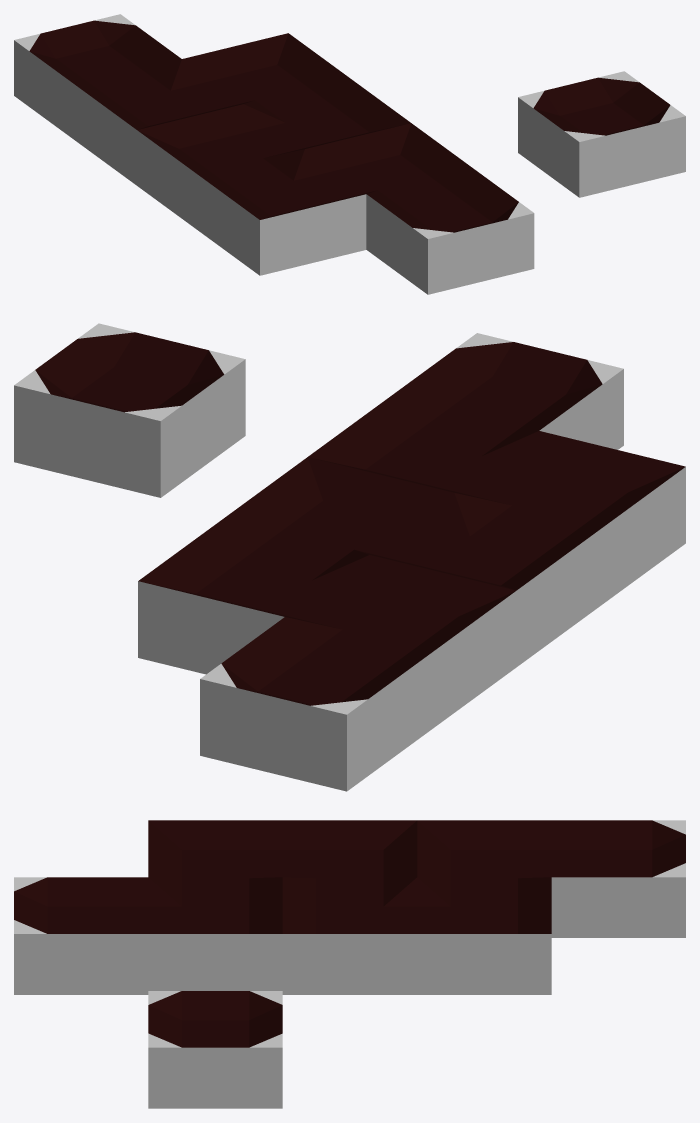
File: 28s_path.obj
3 renders of one model, top to bottom at view 1: azimuth 30°, elevation 25°; view 2: azimuth 150°, elevation 25°; view 3: azimuth 270°, elevation 25°, orthographic. The views are drawn at different scales.
Parts seen in each view (by area): view 1: hole.3.1_Cube.206, ending.1.0_ending.410, corner.0.1_corner.1017, ending.0.4_ending.409, corner.0.2_corner.1018, corner.1.1_corner.1020, corner.1.3_corner.1022, corner.0.3_corner.1019, corner.1.2_corner.1021; view 2: hole.3.1_Cube.206, ending.0.4_ending.409, corner.0.3_corner.1019, corner.0.1_corner.1017, corner.1.3_corner.1022, ending.1.0_ending.410, corner.1.2_corner.1021, corner.0.2_corner.1018, corner.1.1_corner.1020; view 3: ending.0.4_ending.409, ending.1.0_ending.410, hole.3.1_Cube.206, corner.1.2_corner.1021, corner.1.3_corner.1022, corner.1.1_corner.1020, corner.0.2_corner.1018, corner.0.1_corner.1017, corner.0.3_corner.1019.
Part boxes in pixels (box(x1,y1,x2,y2)): hole.3.1_Cube.206: box(518, 71, 685, 197); ending.1.0_ending.410: box(366, 168, 534, 294); corner.0.1_corner.1017: box(198, 149, 366, 275); ending.0.4_ending.409: box(14, 14, 181, 140); corner.0.2_corner.1018: box(137, 104, 304, 230); corner.1.1_corner.1020: box(305, 123, 472, 201); corner.1.3_corner.1022: box(182, 33, 349, 111); corner.0.3_corner.1019: box(75, 59, 241, 185); corner.1.2_corner.1021: box(244, 78, 410, 151); hole.3.1_Cube.206: box(14, 323, 245, 497); ending.0.4_ending.409: box(200, 617, 431, 791); corner.0.3_corner.1019: box(285, 555, 516, 729); corner.0.1_corner.1017: box(455, 431, 685, 604); corner.1.3_corner.1022: box(138, 519, 369, 674); ending.1.0_ending.410: box(393, 333, 623, 449); corner.1.2_corner.1021: box(223, 457, 453, 564); corner.0.2_corner.1018: box(372, 493, 601, 667); corner.1.1_corner.1020: box(308, 395, 538, 496); ending.0.4_ending.409: box(551, 820, 685, 937); ending.1.0_ending.410: box(14, 877, 148, 994); hole.3.1_Cube.206: box(148, 991, 282, 1108); corner.1.2_corner.1021: box(282, 877, 417, 994); corner.1.3_corner.1022: box(417, 877, 551, 994); corner.1.1_corner.1020: box(148, 877, 282, 990); corner.0.2_corner.1018: box(282, 820, 417, 892); corner.0.1_corner.1017: box(148, 820, 282, 892); corner.0.3_corner.1019: box(417, 820, 551, 892).
Bounding box in the file's own units: 8 × 1 × 10.
